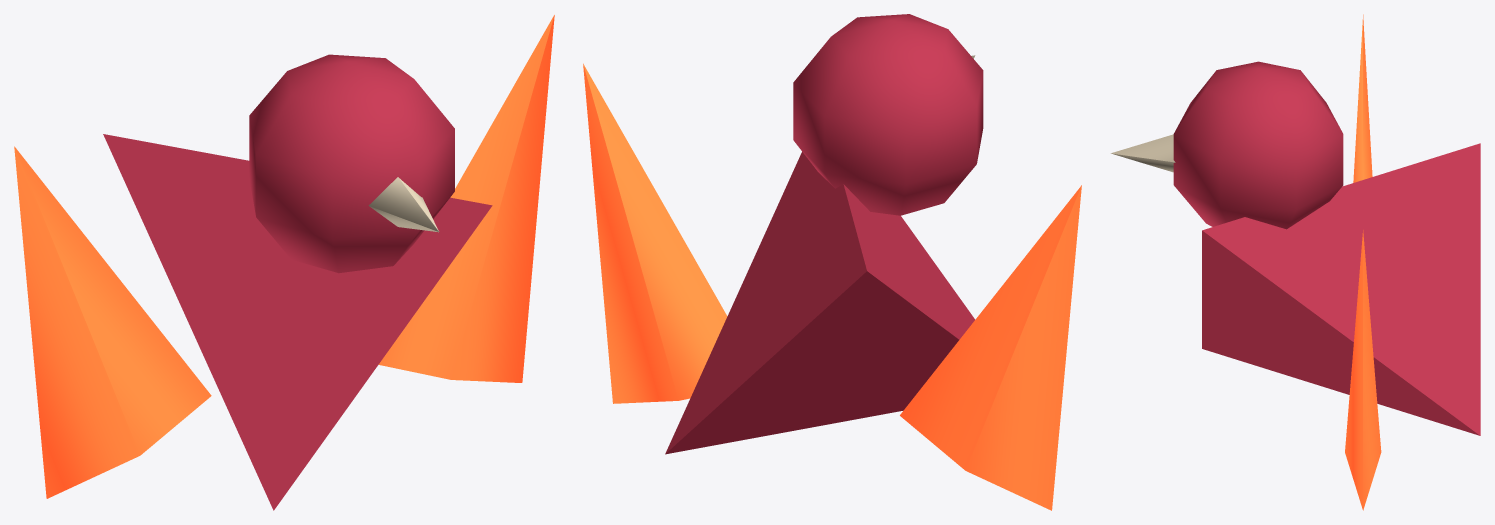
Rendered from red_feather_bird.glb.
3 renders of one model, left to right at view 1: azimuth 30°, elevation 25°; view 2: azimuth 150°, elevation 25°; view 3: azimuth 270°, elevation 25°, orthographic. The views are drawn at different scales.
Visible parts, largest first — view 1: body, head, wing_l, wing_r, beak; view 2: body, head, wing_l, wing_r; view 3: body, head, wing_r, wing_l, beak.
Boxes of the visible parts, <box> form: body: <box>103,134,492,510</box>; head: <box>249,54,454,273</box>; wing_l: <box>14,146,211,498</box>; wing_r: <box>378,15,554,382</box>; beak: <box>368,177,438,232</box>; body: <box>665,152,975,454</box>; head: <box>793,14,983,215</box>; wing_l: <box>900,185,1081,510</box>; wing_r: <box>583,63,727,403</box>; body: <box>1202,143,1480,435</box>; head: <box>1173,61,1343,229</box>; wing_r: <box>1345,230,1381,510</box>; wing_l: <box>1353,14,1372,182</box>; beak: <box>1111,134,1175,172</box>.
Bounding box in the file's own units: 2.34 × 1.76 × 1.7.
